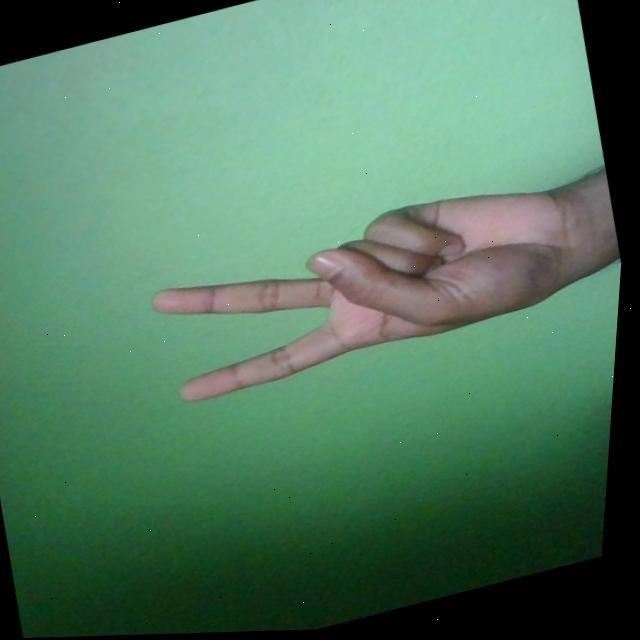Peace: (140, 166, 603, 410)
